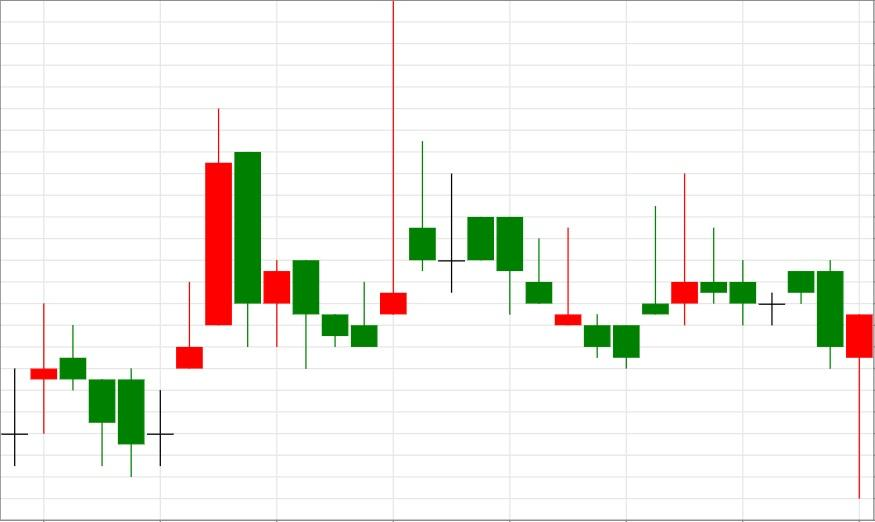bearish_engulfing_fall: (118, 108, 320, 477)
inverse_hammer_rise: (205, 108, 378, 370)
shooting_star_fall: (612, 174, 699, 369)
